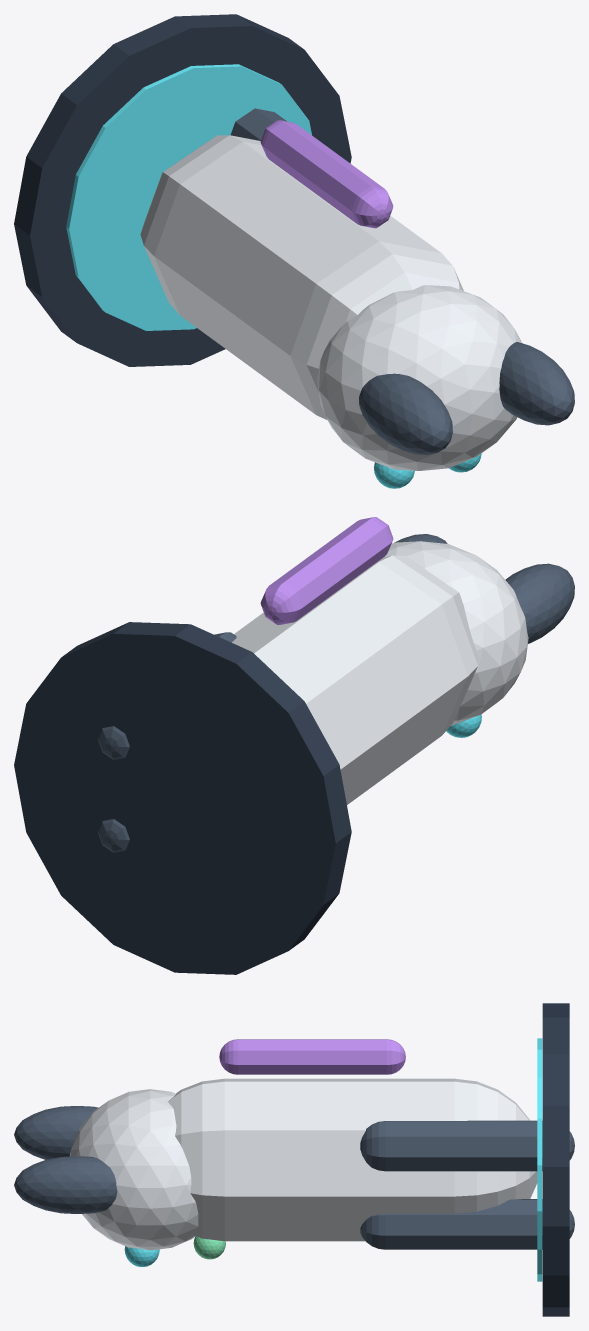
The model's file is cybershield_robot_animal.glb.
The picture shows the model from 3 angles, top to bottom: view 1: azimuth 30°, elevation 25°; view 2: azimuth 150°, elevation 25°; view 3: azimuth 270°, elevation 25°; orthographic projection. The views are drawn at different scales.
Visible parts, largest first — view 1: body, stable_base, base_glow, head, tail, ear_l, ear_r, rear_leg, eye_l; view 2: stable_base, body, head, tail, ear_l, rear_leg, front_leg; view 3: body, head, rear_leg, stable_base, front_leg, tail, ear_r, ear_l, base_glow, collar_light, eye_r.
Boxes of the visible parts, x1,y1,x2,y2 form: body: (140,135,463,419); stable_base: (14,14,351,366); base_glow: (66,64,311,330); head: (317,285,521,470); tail: (260,120,393,228); ear_l: (359,373,452,455); ear_r: (499,342,574,425); rear_leg: (230,108,286,140); eye_l: (374,462,414,488); stable_base: (14,622,351,974); body: (232,555,479,804); head: (384,541,528,725); tail: (260,517,393,624); ear_l: (505,563,574,643); rear_leg: (97,632,236,759); front_leg: (97,819,129,852); body: (167,1078,537,1241); head: (69,1089,198,1250); rear_leg: (360,1120,574,1171); stable_base: (542,1003,569,1316); front_leg: (360,1199,574,1249); tail: (219,1039,405,1074); ear_r: (14,1156,117,1213); ear_l: (14,1106,98,1159); base_glow: (537,1038,542,1281); collar_light: (193,1236,225,1259); eye_r: (124,1246,159,1266).
Size of the model in its own units: 1.16 by 1.16 by 2.07.
